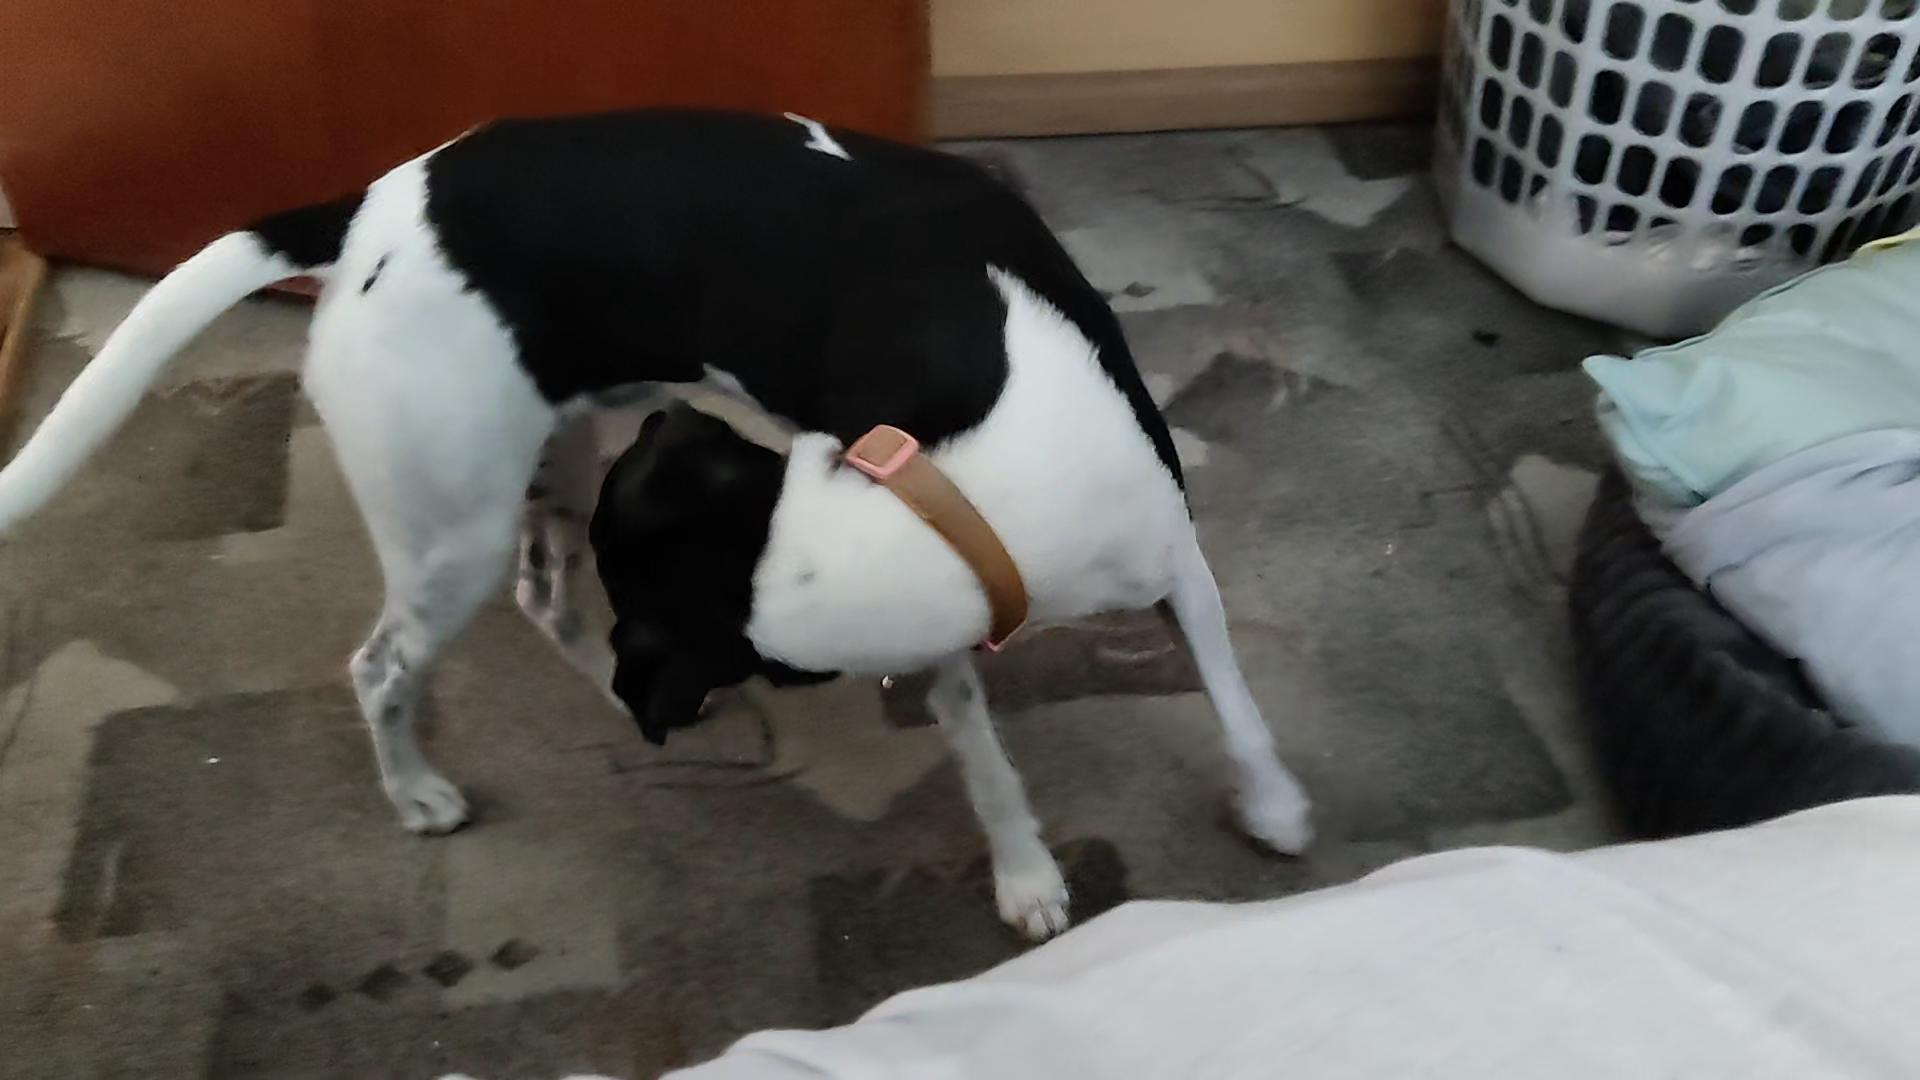Dog: (0, 90, 1398, 940)
